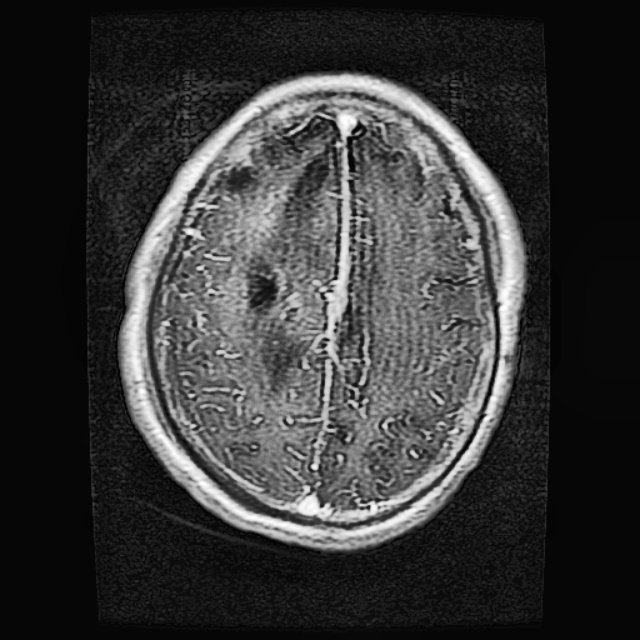Glioma: (240, 257, 283, 308)
